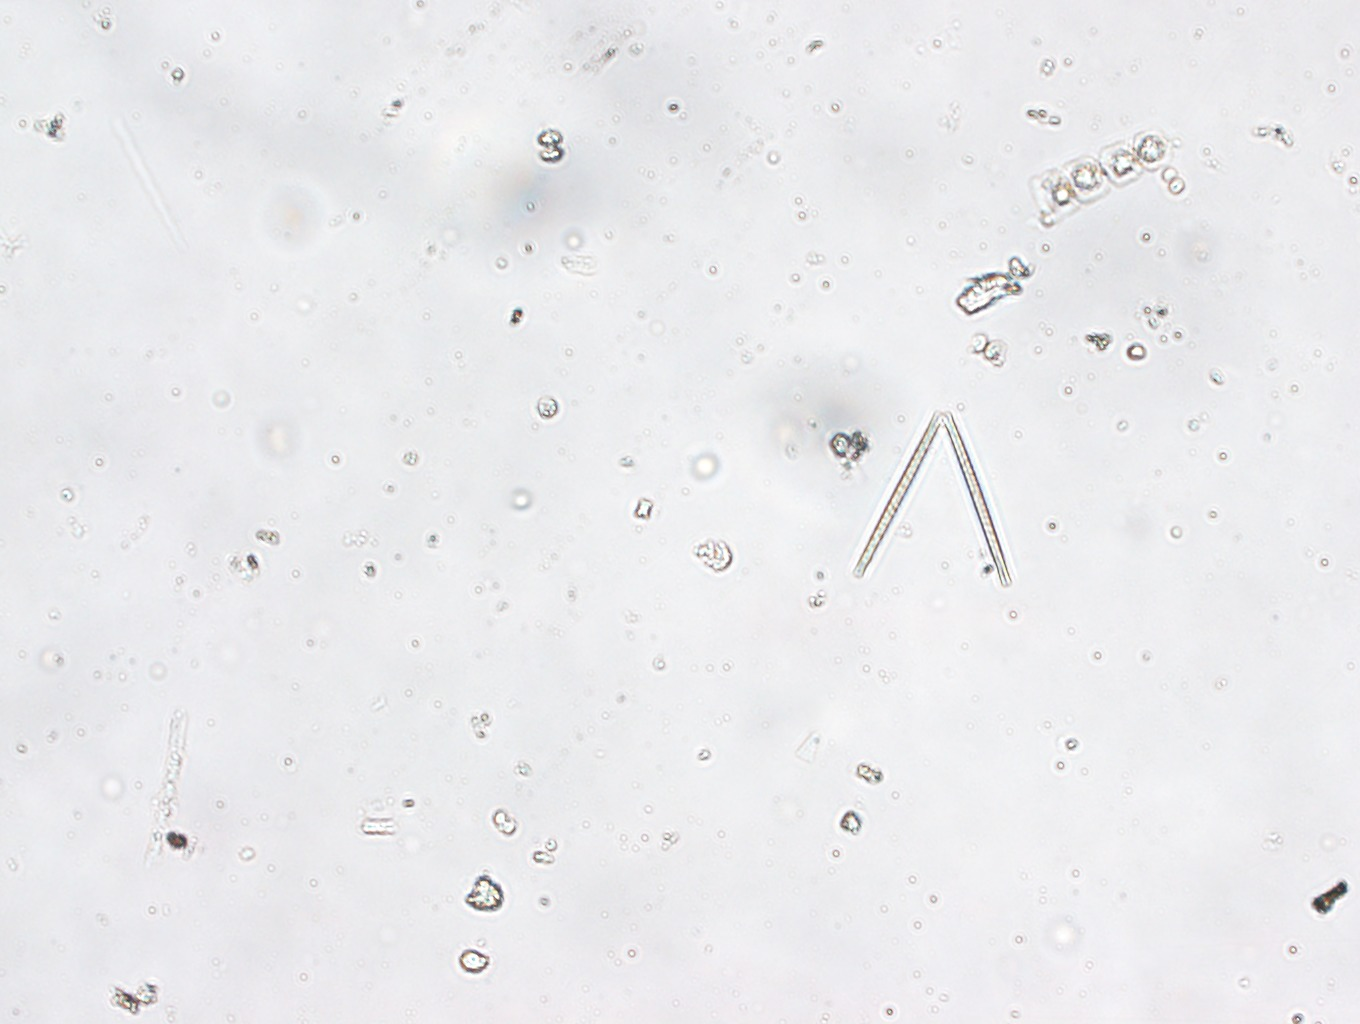detonula pumila: (1027, 134, 1202, 244)
thalassionema frauenfeldii: (844, 409, 1025, 595)
